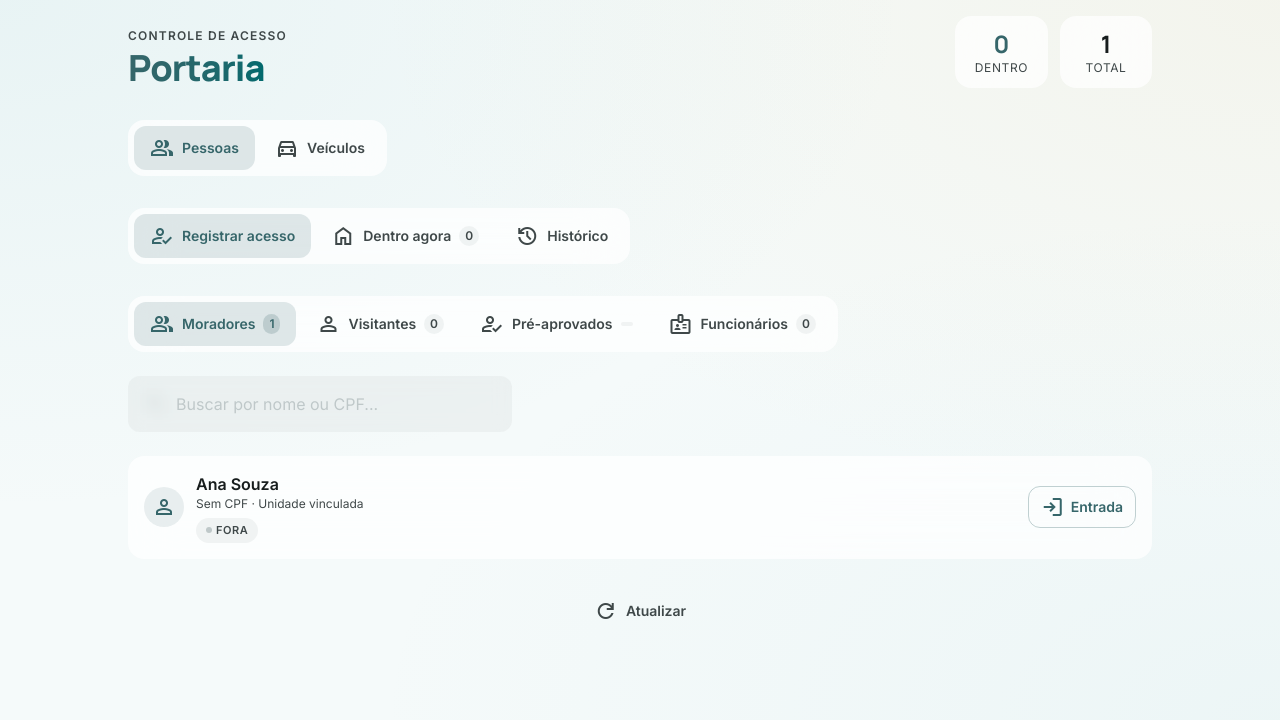
Test case: Portaria — navegação entre abas › Dentro agora mostra o vazio explicado quando não há ninguém
The width and height of the screenshot is (1280, 720).
Expected: the button "Moradores 1" is shown, [134, 302, 296, 346]
Step 1. Click the button "Dentro agora 0" → [405, 236], box [315, 214, 495, 258]
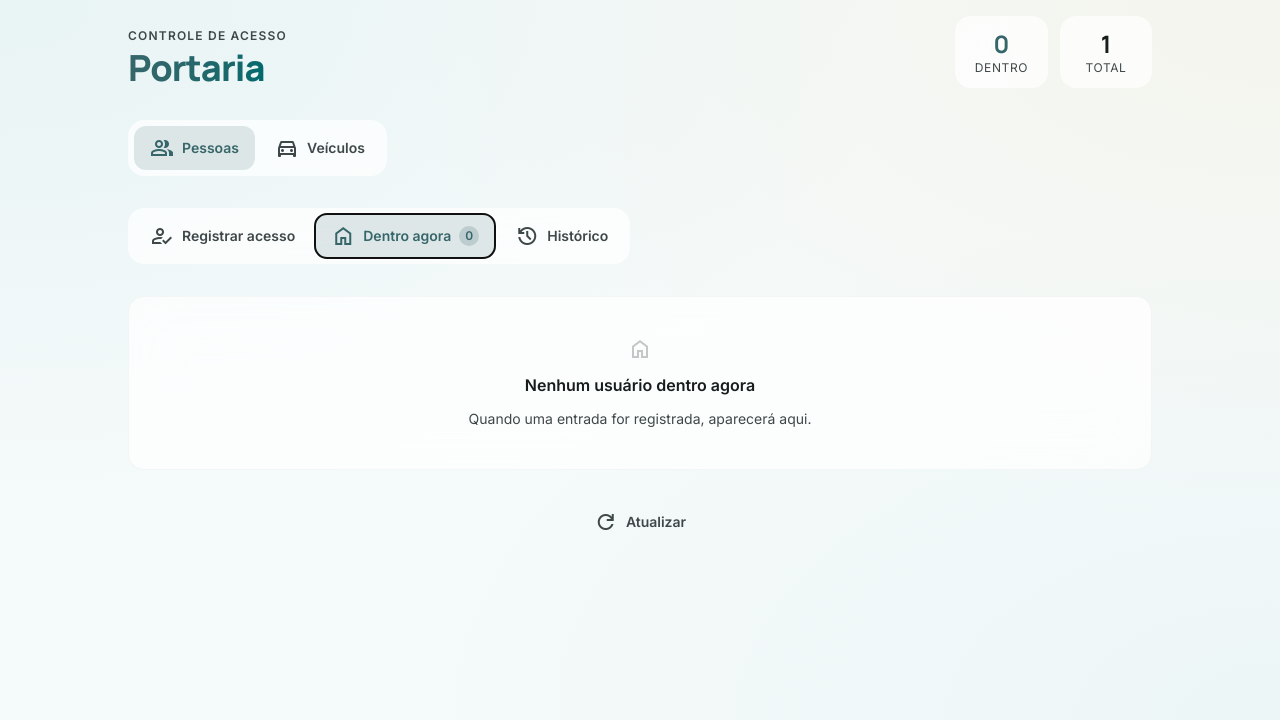
Expected: the text "Nenhum usuário dentro agora" is shown, [525, 373, 755, 397]
